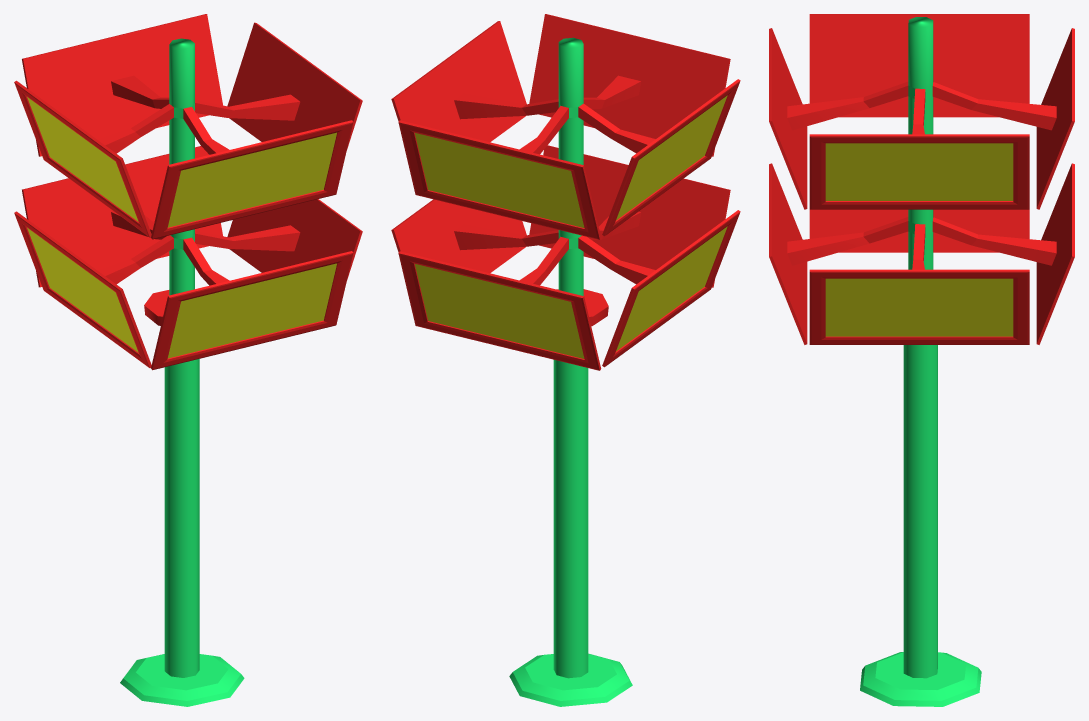
Rendered from tvTower.FBX.
3 views of the same model, side by side, from view 1: azimuth 30°, elevation 25°; view 2: azimuth 150°, elevation 25°; view 3: azimuth 270°, elevation 25° (orthographic). The views are drawn at different scales.
Parts seen in each view (by area): view 1: tvTower; view 2: tvTower; view 3: tvTower.
Part boxes in pixels (box(x1,y1,x2,y2)): tvTower: box(14, 14, 362, 706); tvTower: box(391, 14, 740, 706); tvTower: box(769, 14, 1074, 706).
Bounding box in the file's own units: 128 × 321 × 135.
